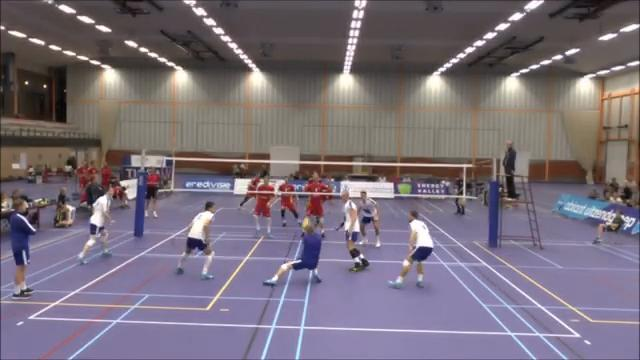Player: (389, 210, 433, 288), (176, 201, 214, 279), (9, 198, 35, 299), (78, 187, 112, 263), (341, 189, 369, 271), (304, 172, 330, 237), (253, 176, 274, 237), (359, 191, 380, 247), (278, 177, 300, 226), (238, 176, 260, 209)
Receive: (261, 214, 327, 283)
ball: (299, 213, 310, 232)
